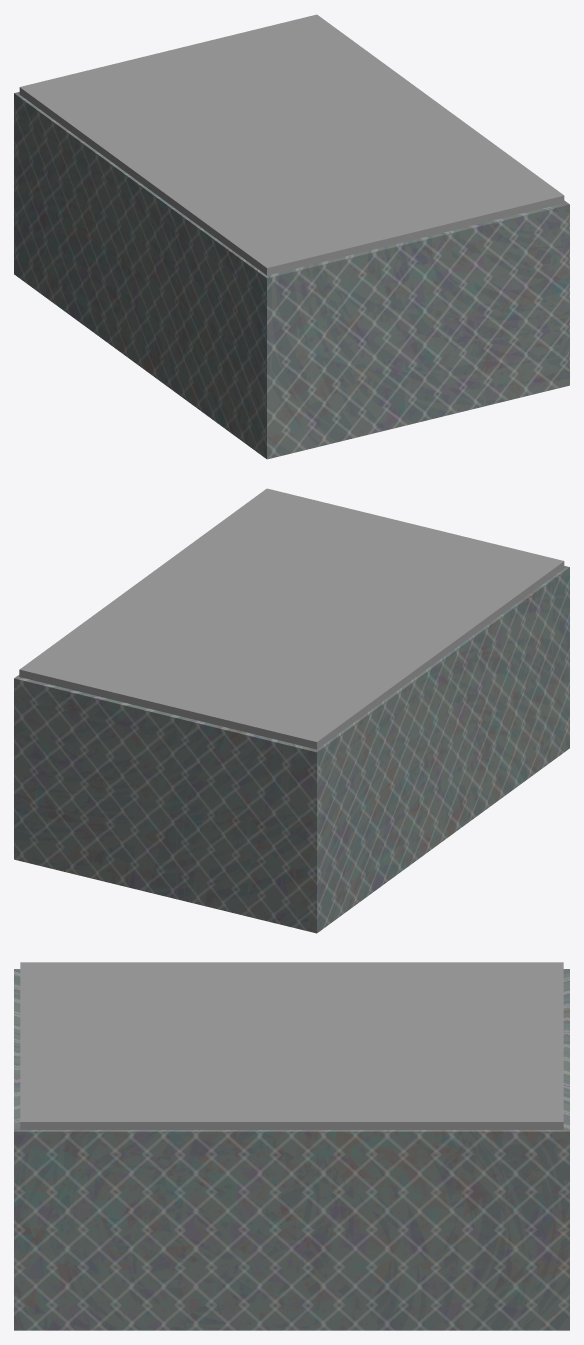
File: lock level decor.fbx
3 renders of one model, top to bottom at view 1: azimuth 30°, elevation 25°; view 2: azimuth 150°, elevation 25°; view 3: azimuth 270°, elevation 25°, orthographic. The views are drawn at different scales.
Visible parts, largest first — view 1: lock_level, bottom lock_level.001; view 2: lock_level, bottom lock_level.001; view 3: lock_level, bottom lock_level.001.
Boxes of the visible parts, left/top/right/bottom form: lock_level: left=14, top=92, right=569, bottom=459; bottom lock_level.001: left=19, top=14, right=564, bottom=275; lock_level: left=14, top=566, right=569, bottom=933; bottom lock_level.001: left=19, top=488, right=564, bottom=749; lock_level: left=14, top=969, right=569, bottom=1330; bottom lock_level.001: left=20, top=962, right=563, bottom=1129.
Size of the model in its own units: 9.36 by 5.62 by 13.54.
Materials: 18 (1 with a texture image).
